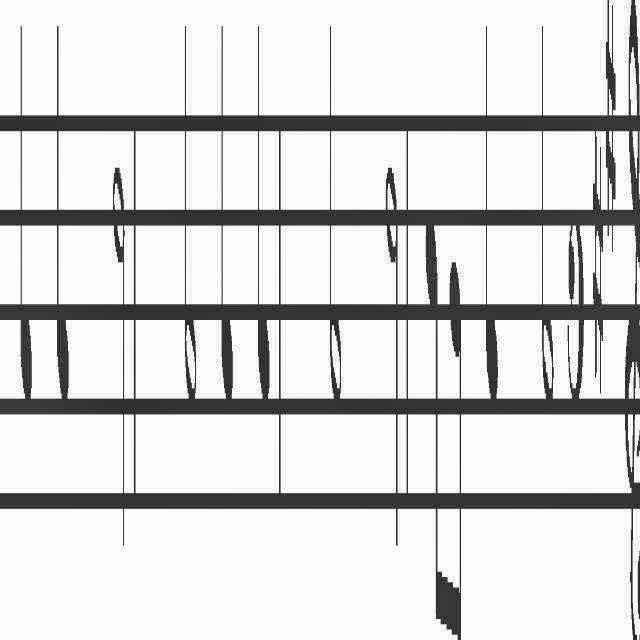Bass-clef: (624, 0, 640, 640)
Diez: (591, 132, 605, 394), (606, 0, 618, 262)
Eighth-note: (425, 210, 447, 630), (448, 246, 464, 640)
Half-note: (327, 13, 343, 420), (182, 13, 198, 420), (540, 11, 554, 417), (111, 161, 125, 555), (386, 144, 398, 562)
Quarter-note: (484, 13, 500, 420), (220, 4, 234, 416), (257, 7, 271, 417), (19, 1, 33, 407), (56, 14, 70, 414)
